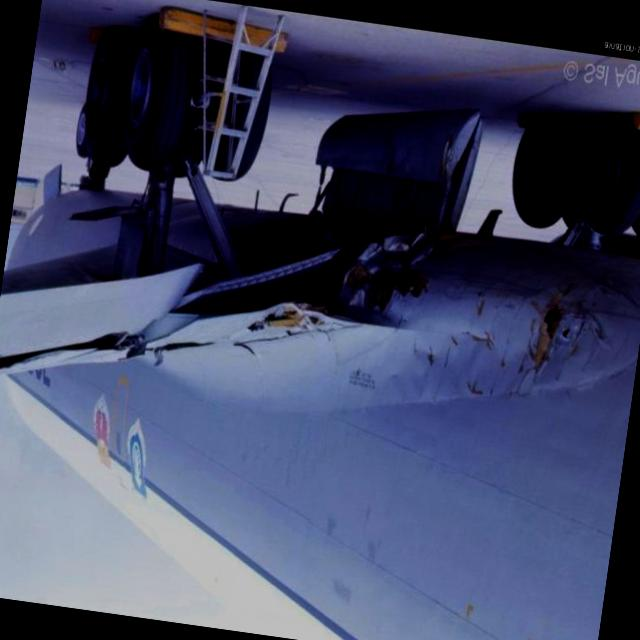crack: (530, 275, 574, 378)
dent: (376, 332, 510, 412)
